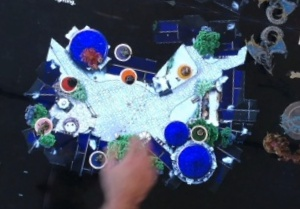blue: (86, 147, 109, 171)
green: (188, 121, 209, 143)
orange: (115, 64, 139, 88)
pink: (31, 113, 55, 137)
red: (56, 72, 80, 95)
violet: (112, 41, 134, 62)
yellow: (174, 61, 194, 81)
